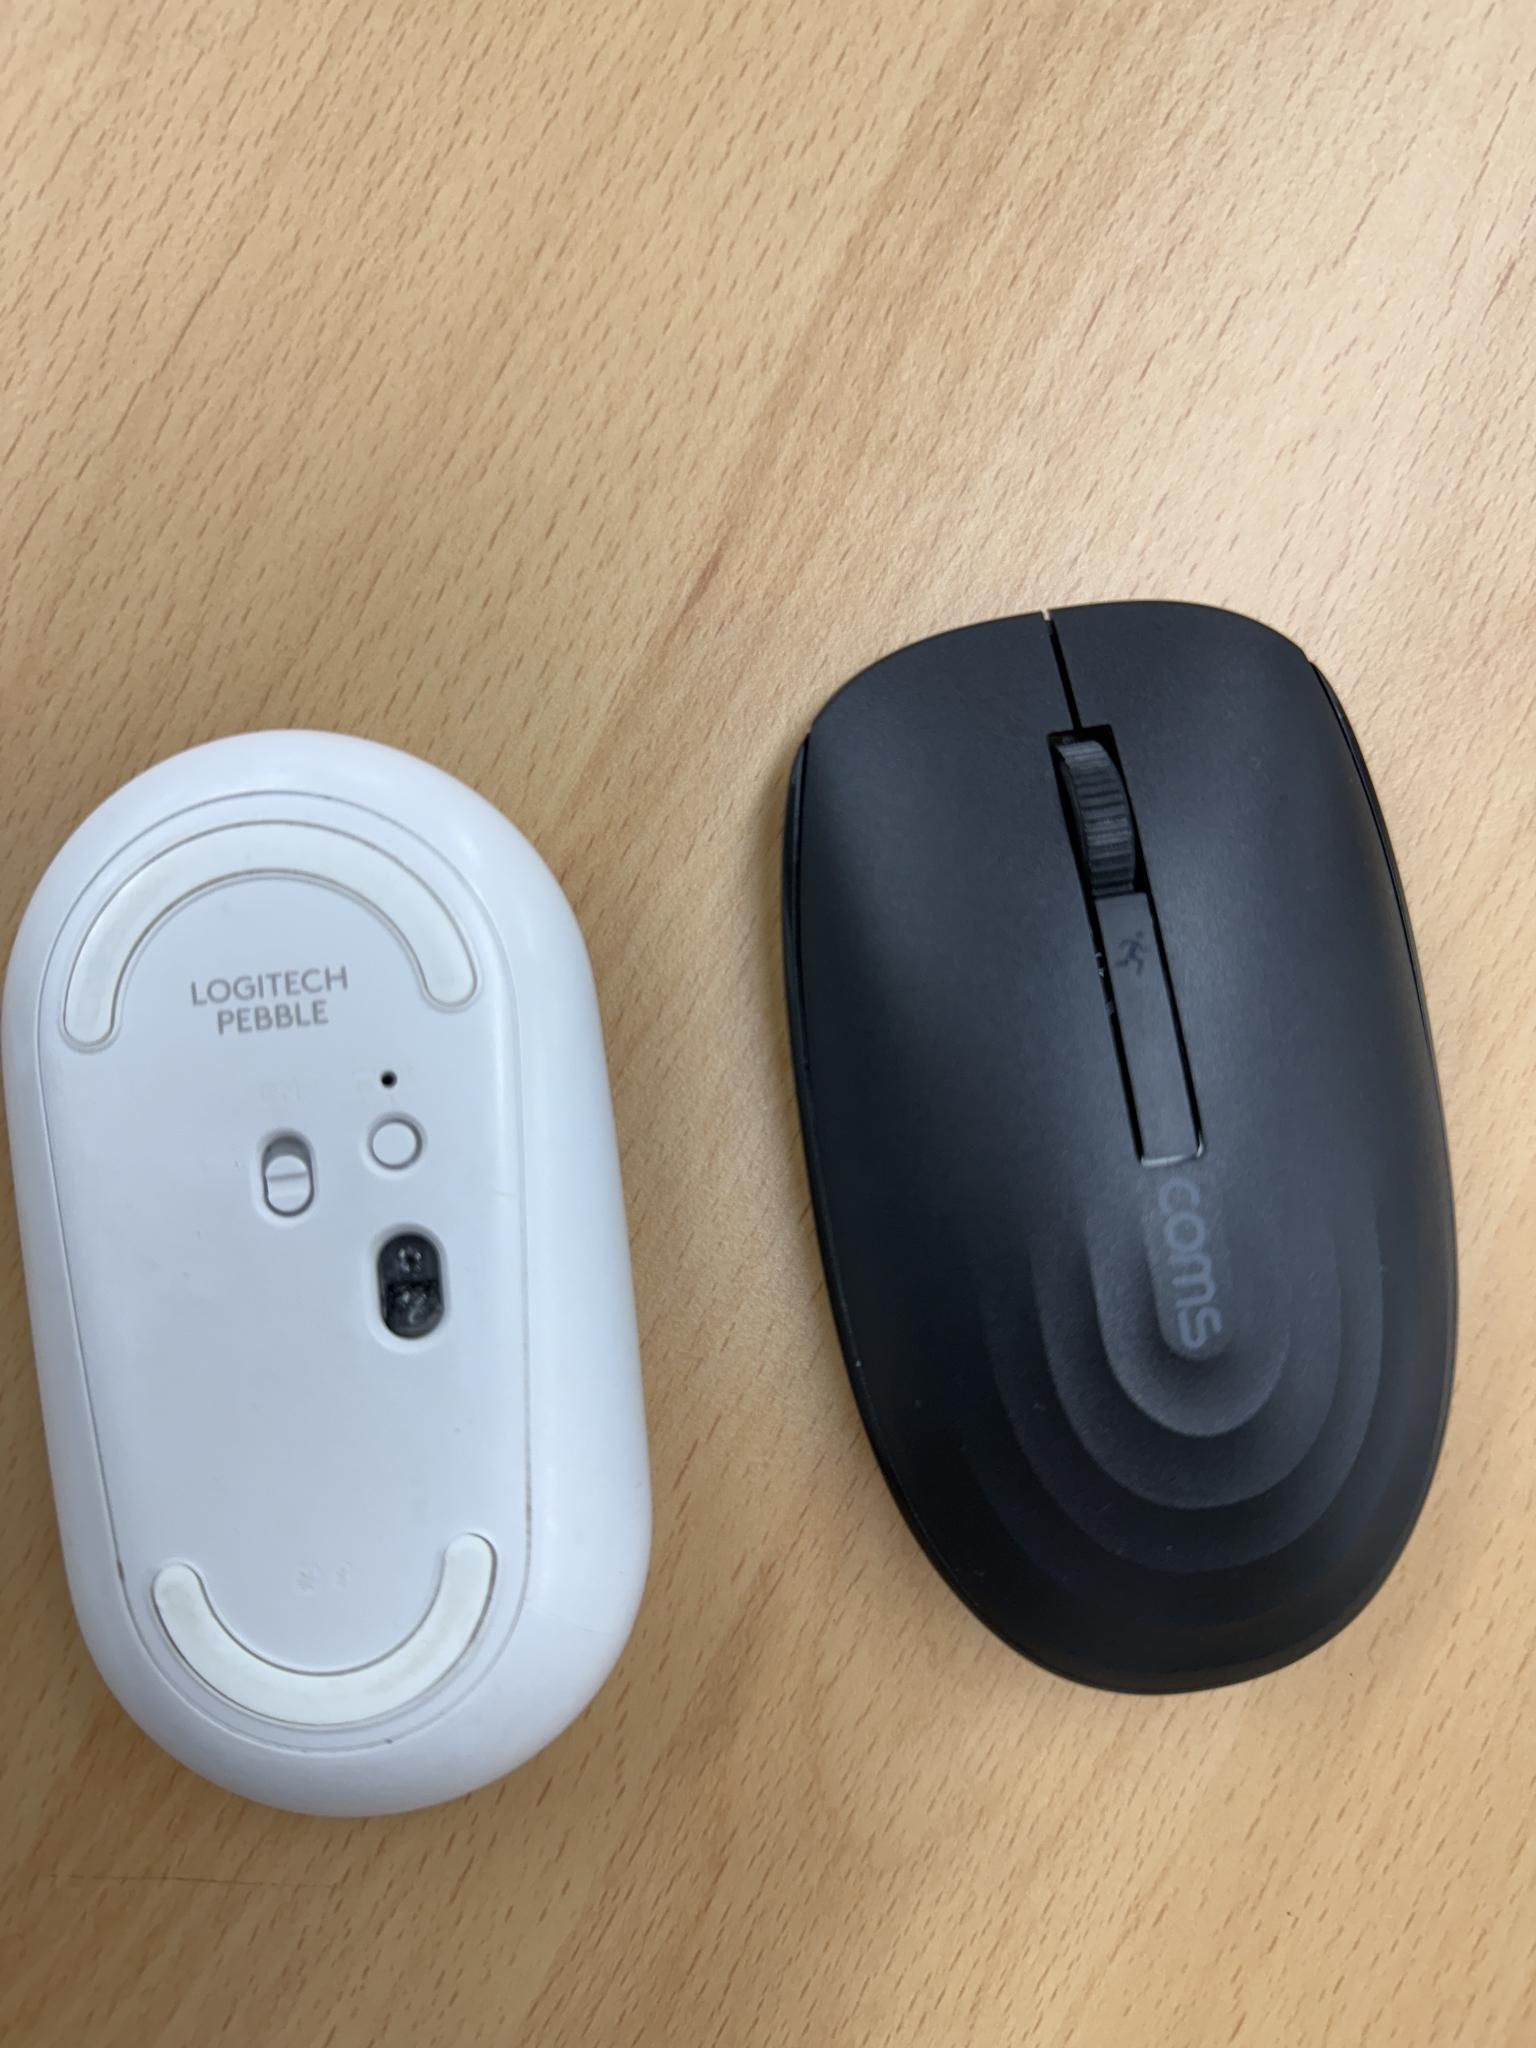back: (8, 724, 660, 1819)
front: (778, 595, 1468, 1696)
